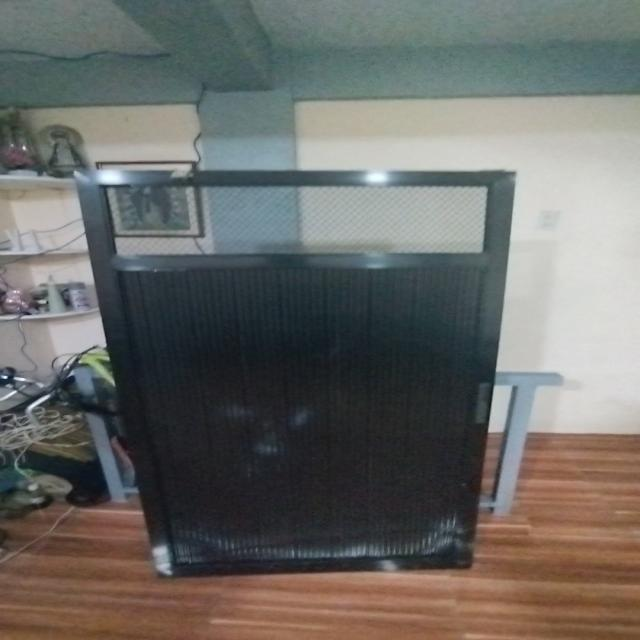door: (61, 162, 518, 573)
